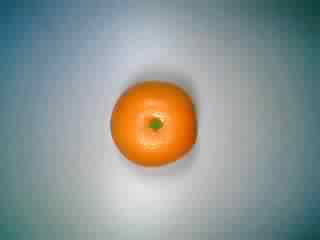orange: (101, 79, 200, 176)
